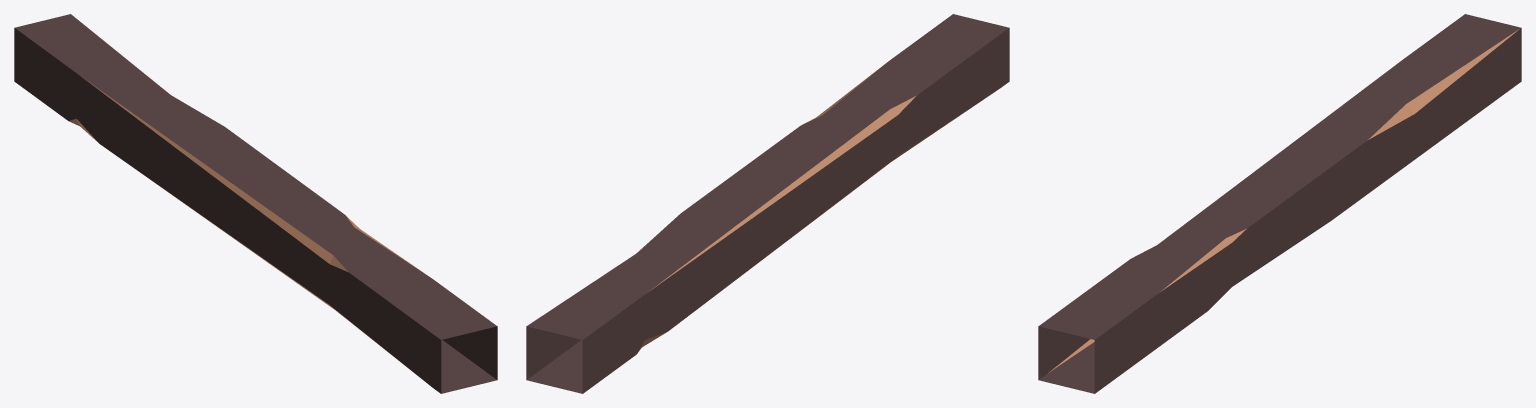
The model's file is builder_49.FBX.
3 renders of one model, left to right at view 1: azimuth 30°, elevation 25°; view 2: azimuth 150°, elevation 25°; view 3: azimuth 330°, elevation 25°, orthographic.
Visible parts, largest first — view 1: builder_49; view 2: builder_49; view 3: builder_49.
Boxes of the visible parts, <box> form: builder_49: <box>14,14,497,393</box>; builder_49: <box>526,14,1009,393</box>; builder_49: <box>1038,14,1521,393</box>.
Size of the model in its own units: 9.05 by 8.28 by 119.
